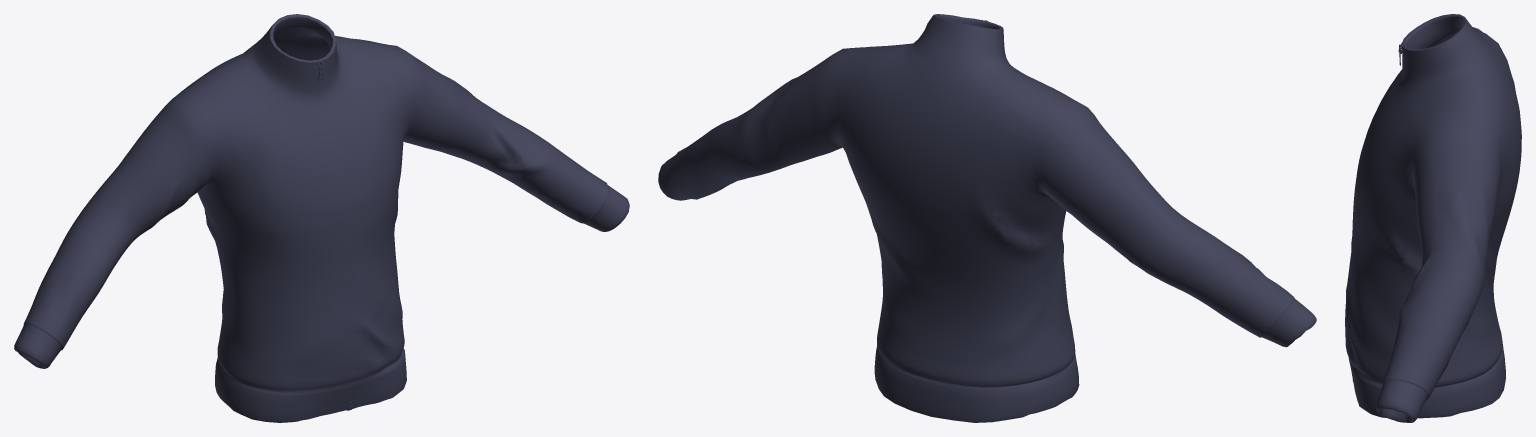
The model's file is Grey Adidas.gltf.
The picture shows the model from 3 angles, left to right: view 1: azimuth 30°, elevation 25°; view 2: azimuth 150°, elevation 25°; view 3: azimuth 270°, elevation 25°; orthographic projection. The views are drawn at different scales.
Visible parts, largest first — view 1: zdxvz1:Jacket_Low; view 2: zdxvz1:Jacket_Low; view 3: zdxvz1:Jacket_Low.
Boxes of the visible parts, box(x1,y1,x2,y2) form: zdxvz1:Jacket_Low: box(14, 14, 629, 422); zdxvz1:Jacket_Low: box(658, 14, 1316, 422); zdxvz1:Jacket_Low: box(1345, 14, 1521, 422).
Size of the model in its own units: 0.1 by 0.0558 by 0.0248.
